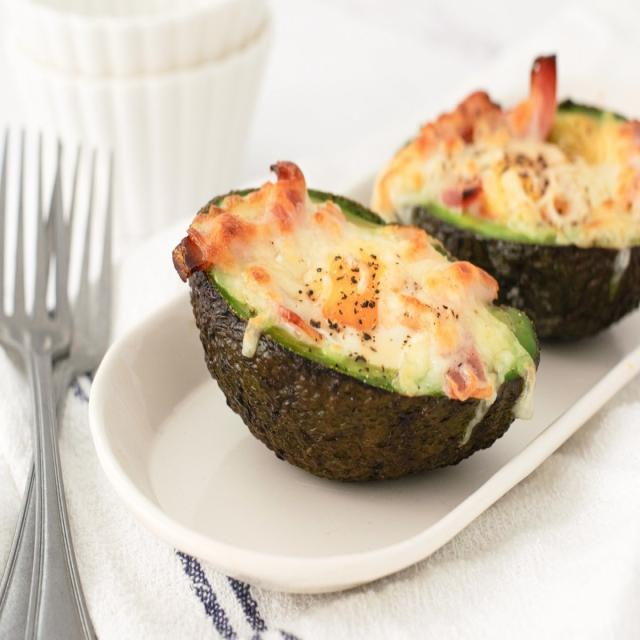papa: (174, 152, 536, 406)
